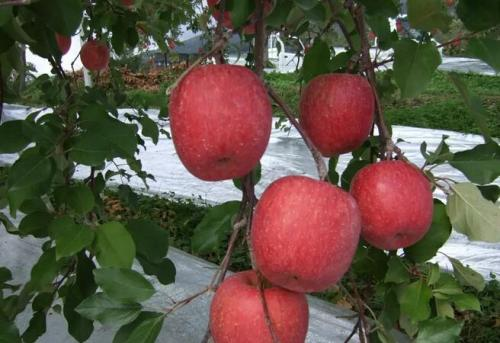apple: (252, 175, 363, 294), (168, 64, 275, 180), (298, 71, 377, 157)
obscured(0)_apple: (350, 158, 434, 251), (208, 270, 309, 343)
